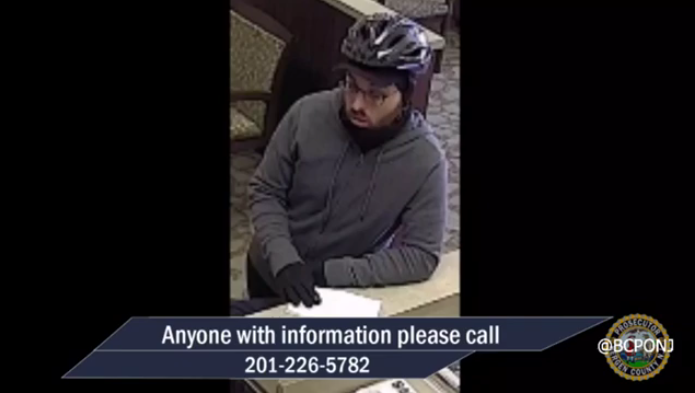helmet: (334, 3, 437, 74), (334, 3, 437, 71)
